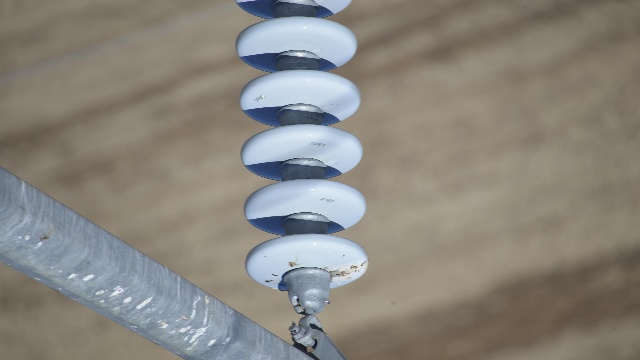insulator_unspecified: (234, 0, 369, 291)
